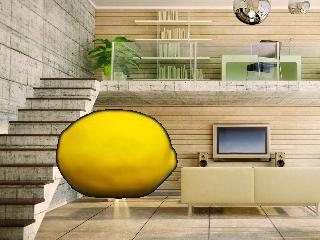lemon: (59, 109, 176, 197)
